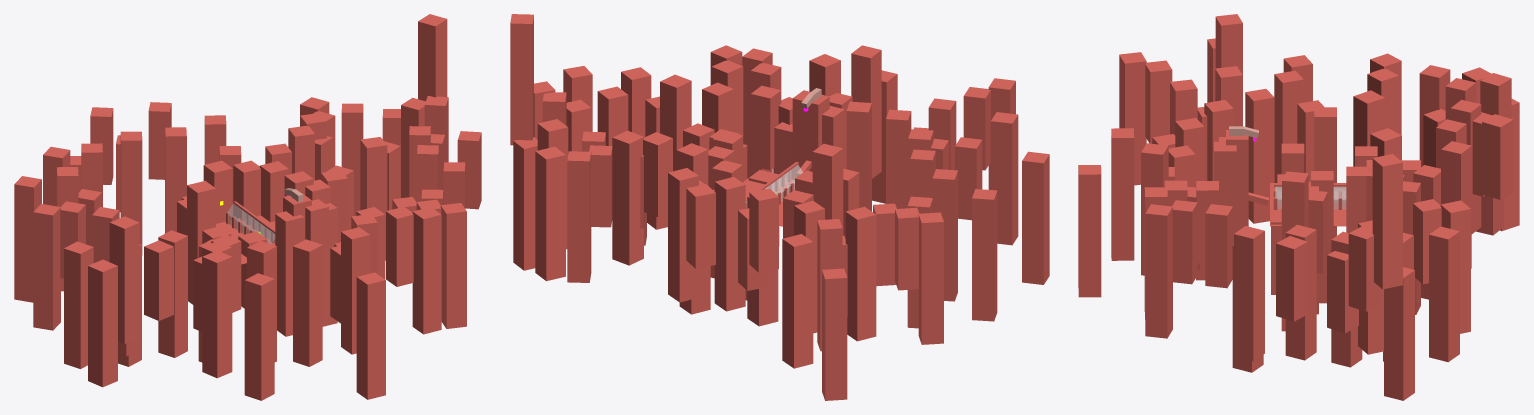
The model's file is testlevel.glb.
3 views of the same model, side by side, from view 1: azimuth 30°, elevation 25°; view 2: azimuth 150°, elevation 25°; view 3: azimuth 270°, elevation 25° (orthographic). The views are drawn at different scales.
Parts seen in each view (by area): view 1: Cube.054, Cube.073, Cube.056, Cube.074, Cube.053, Cube.055, Cube.041, Cube.091, Cube.052, Cube.071, Cube.042, Cube.057 (+54 smaller); view 2: Cube.103, Cube.079, Cube.104, Cube.092, Cube.053, Cube.071, Cube.042, Cube.052, Cube.100, Cube.041, Cube.068, Cube.101 (+55 smaller); view 3: Cube.079, Cube.082, Cube.067, Cube.080, Cube.091, Cube.069, Cube.056, Cube.057, Cube.098, Cube.085, Cube.054, Cube.083 (+53 smaller).
Boxes of the visible parts, x1,y1,x2,y2 form: Cube.054: [202, 250, 232, 378]; Cube.073: [244, 273, 274, 400]; Cube.056: [356, 272, 385, 399]; Cube.074: [293, 239, 322, 366]; Cube.053: [88, 259, 117, 387]; Cube.055: [412, 207, 441, 334]; Cube.041: [33, 204, 60, 330]; Cube.091: [440, 203, 466, 328]; Cube.052: [109, 216, 139, 343]; Cube.071: [64, 241, 93, 368]; Cube.042: [14, 176, 41, 302]; Cube.057: [341, 227, 369, 354]; Cube.103: [782, 234, 813, 368]; Cube.079: [535, 146, 565, 281]; Cube.104: [845, 206, 876, 341]; Cube.092: [612, 130, 643, 265]; Cube.053: [1022, 151, 1049, 284]; Cube.071: [972, 189, 997, 321]; Cube.042: [822, 268, 847, 400]; Cube.052: [990, 112, 1018, 245]; Cube.100: [714, 177, 745, 311]; Cube.041: [918, 212, 943, 344]; Cube.068: [567, 151, 591, 282]; Cube.101: [668, 168, 698, 302]; Cube.079: [1429, 226, 1459, 362]; Cube.082: [1234, 226, 1264, 361]; Cube.067: [1372, 154, 1402, 289]; Cube.080: [1384, 267, 1414, 400]; Cube.091: [1145, 204, 1172, 338]; Cube.069: [1245, 88, 1274, 223]; Cube.056: [1078, 165, 1101, 297]; Cube.057: [1111, 128, 1134, 260]; Cube.098: [1482, 114, 1513, 199]; Cube.085: [1276, 236, 1307, 321]; Cube.054: [1119, 52, 1146, 185]; Cube.083: [1285, 224, 1316, 360].
Size of the model in its own units: 147 by 75.17 by 122.
